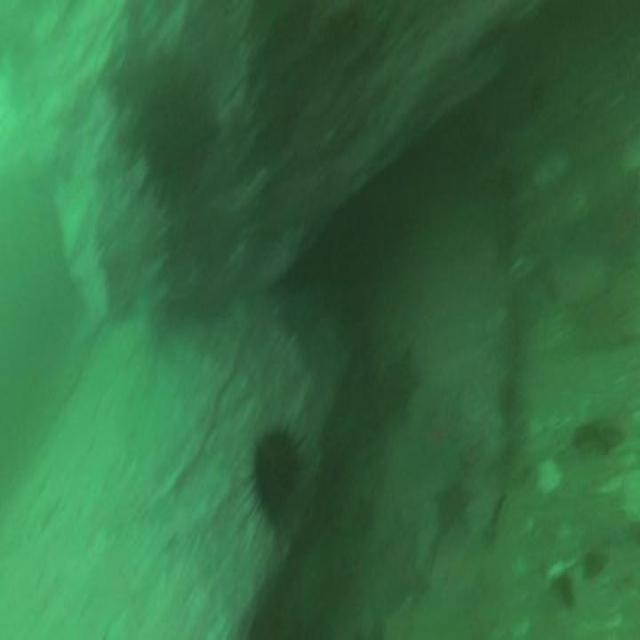echinus: (140, 77, 208, 196), (254, 427, 302, 518)
starfish: (379, 351, 418, 420), (434, 479, 471, 531)
